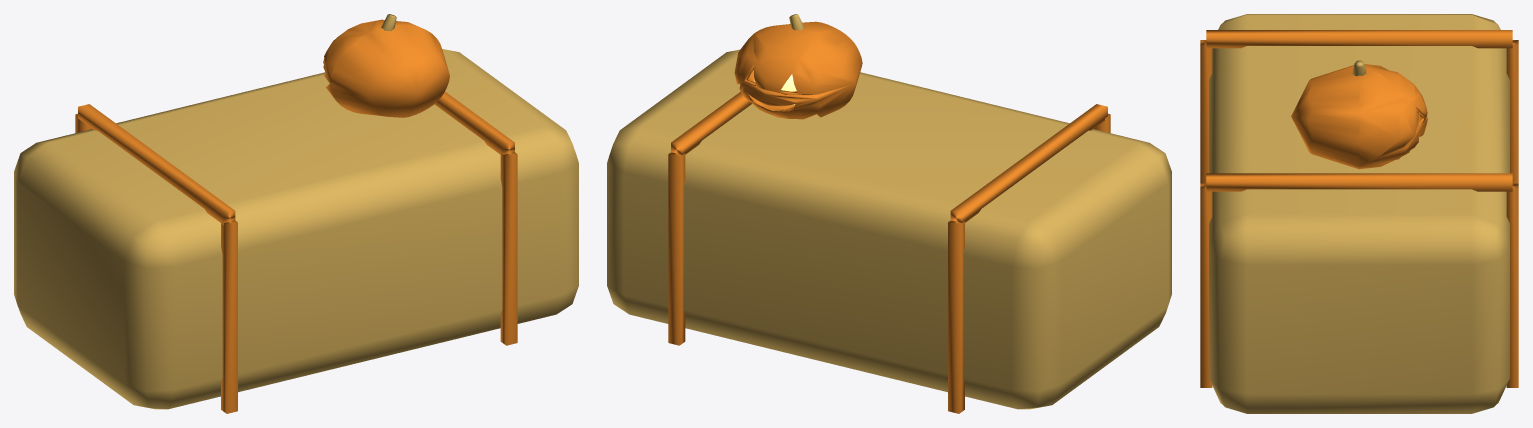
Rendered from hay_bale.glb.
The picture shows the model from 3 angles, left to right: view 1: azimuth 30°, elevation 25°; view 2: azimuth 150°, elevation 25°; view 3: azimuth 270°, elevation 25°; orthographic projection. The views are drawn at different scales.
Bounding box in the file's own units: 1 × 0.6045 × 0.582.
